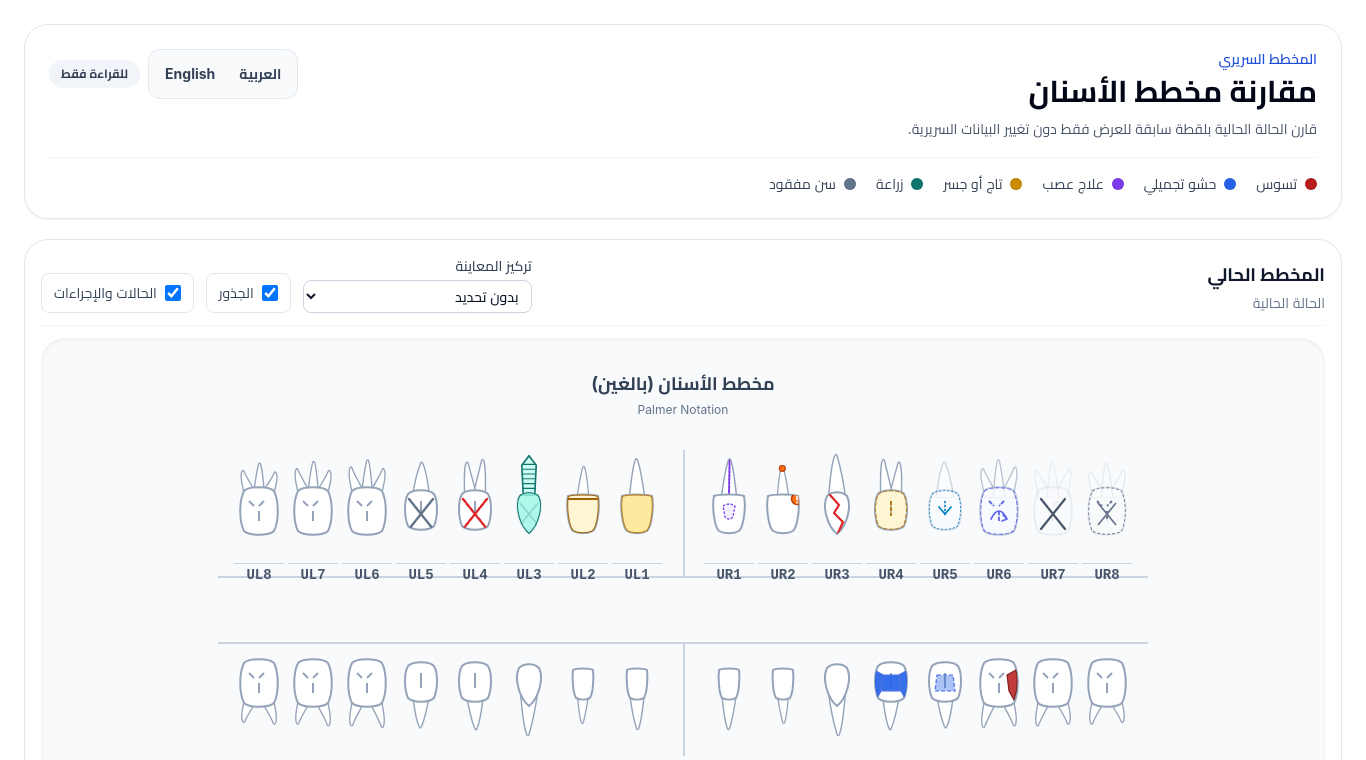
ClinicalChartWorkspace scaffold › keeps focus selection isolated between chart instances
The image size is (1366, 760).
Select "السن 46 — السطح البعيد (D)" in the dropdown named "تركيز المعاينة - المخطط الحالي" at [417, 296], box [303,280,532,313]
(page scrolled)
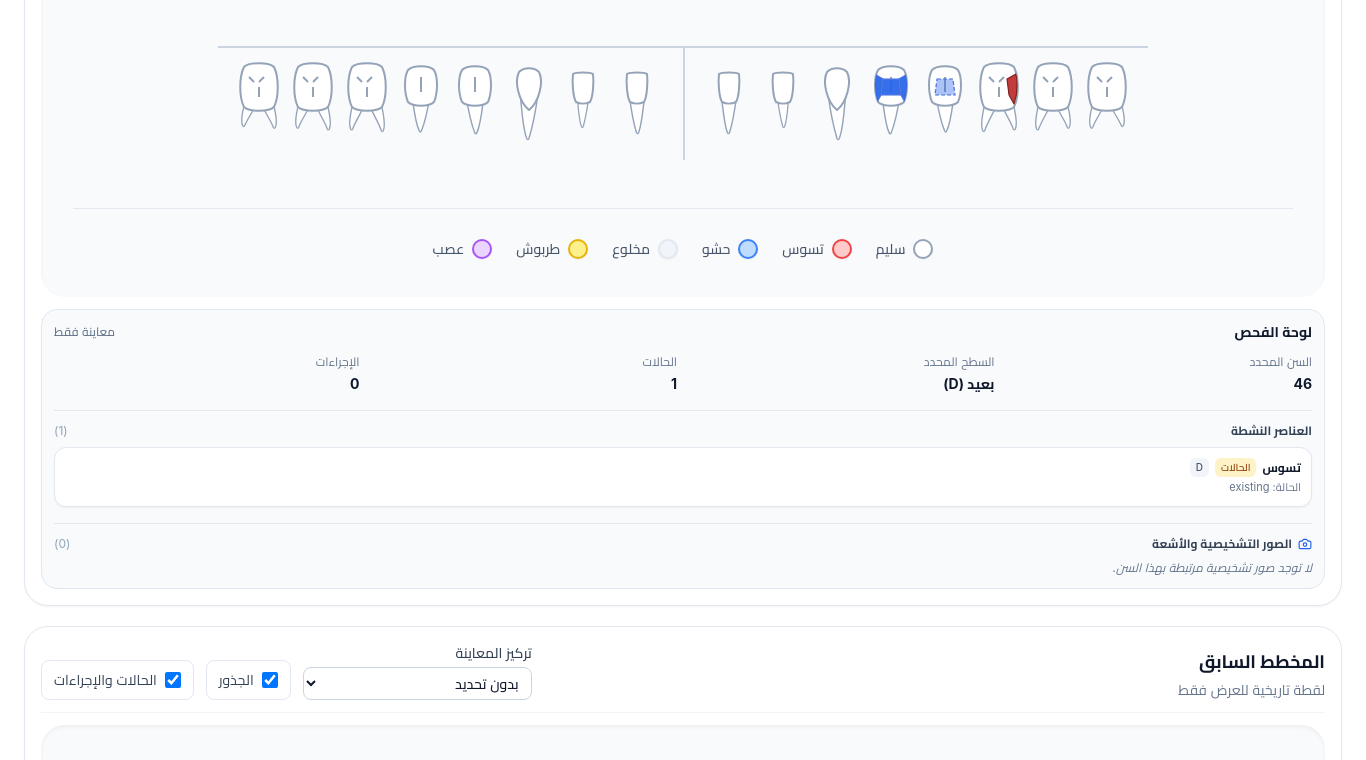
Now the text "46" is shown, box [1293,375,1312,392]
Now the text "بعيد (D)" is shown, box [943,375,994,392]
